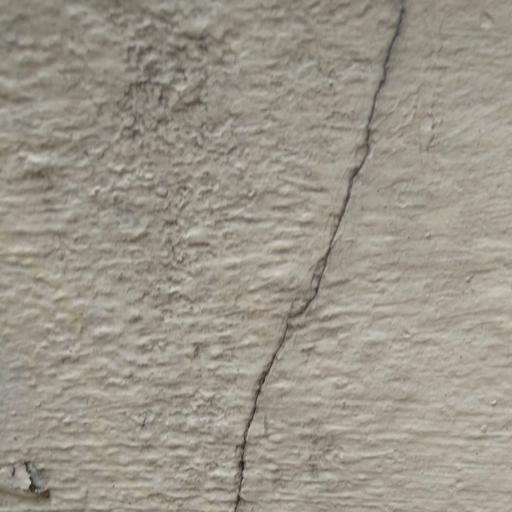minor_crack: (212, 0, 427, 512)
